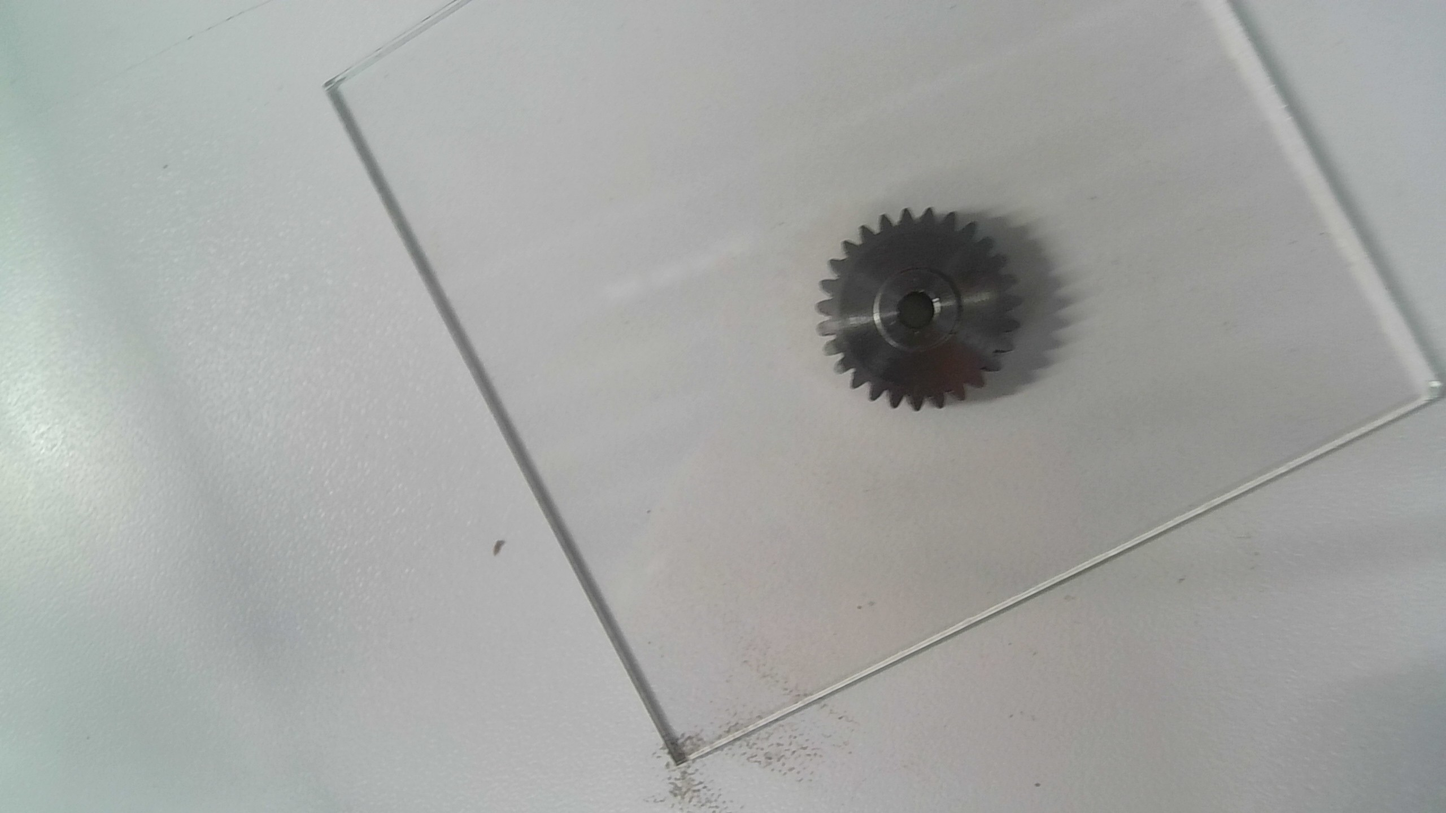gear: (808, 206, 1023, 413)
